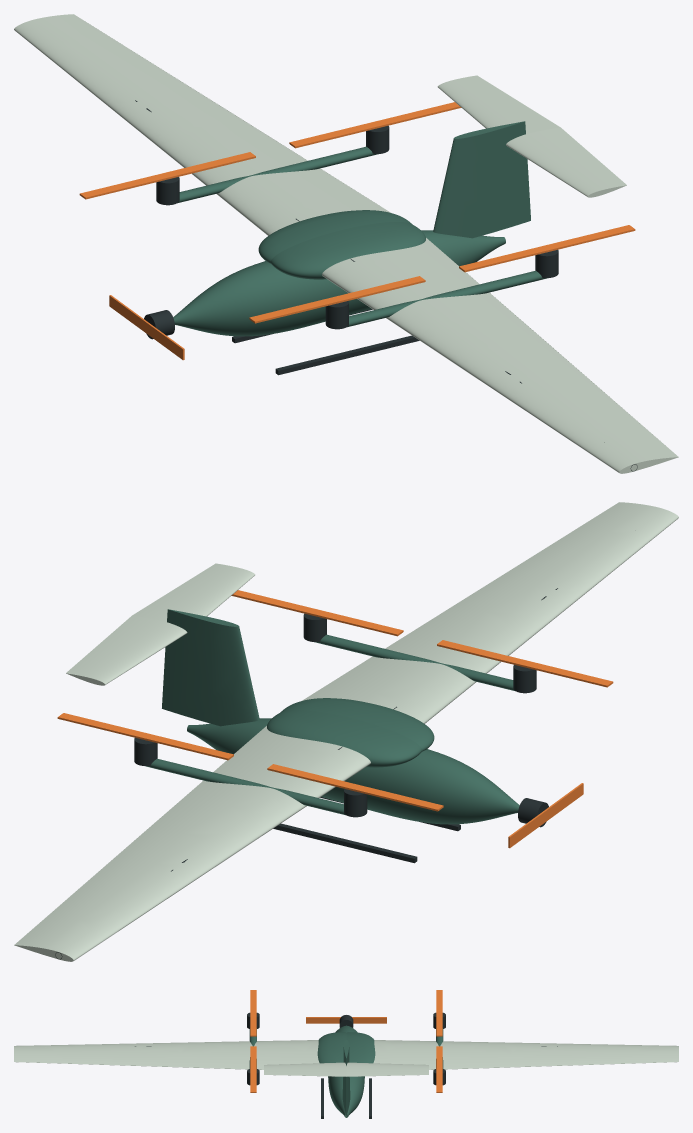
Rendered from control-09-model.glb.
The picture shows the model from 3 angles, top to bottom: view 1: azimuth 30°, elevation 25°; view 2: azimuth 150°, elevation 25°; view 3: azimuth 270°, elevation 25°; orthographic projection. The views are drawn at different scales.
Parts seen in each view (by area): view 1: wing-1, wing1, fuselage, fin, root_fairing-1, tail-1, tail1, root_fairing1, boom_fairing-1, boom_fairing1, prop_-1_200.0, prop_-1_700.0 (+4 smaller); view 2: wing1, wing-1, fuselage, fin, root_fairing1, tail1, tail-1, root_fairing-1, boom_fairing1, boom_fairing-1, prop_1_200.0, prop_1_700.0 (+4 smaller); view 3: wing-1, wing1, tail-1, tail1, fuselage, root_fairing-1, root_fairing1, cruise_prop, fin, prop_-1_200.0, prop_-1_700.0, prop_1_200.0 (+1 smaller).
Part boxes in pixels (left/top/right/bottom): wing-1: left=322, top=238, right=678, bottom=473; wing1: left=14, top=14, right=390, bottom=235; fuselage: left=173, top=230, right=505, bottom=336; fin: left=433, top=121, right=530, bottom=238; root_fairing-1: left=270, top=222, right=425, bottom=279; tail-1: left=506, top=127, right=626, bottom=197; tail1: left=437, top=75, right=560, bottom=133; root_fairing1: left=258, top=210, right=412, bottom=263; boom_fairing-1: left=347, top=270, right=548, bottom=327; boom_fairing1: left=177, top=146, right=378, bottom=203; prop_-1_200.0: left=249, top=276, right=425, bottom=323; prop_-1_700.0: left=459, top=225, right=635, bottom=272; wing1: left=14, top=726, right=370, bottom=961; wing-1: left=302, top=502, right=678, bottom=723; fuselage: left=187, top=718, right=519, bottom=824; fin: left=162, top=609, right=259, bottom=726; root_fairing1: left=267, top=710, right=422, bottom=767; tail1: left=66, top=615, right=187, bottom=685; tail-1: left=132, top=563, right=255, bottom=621; root_fairing-1: left=280, top=698, right=434, bottom=751; boom_fairing1: left=145, top=758, right=345, bottom=815; boom_fairing-1: left=314, top=634, right=515, bottom=691; prop_1_200.0: left=267, top=764, right=443, bottom=811; prop_1_700.0: left=57, top=713, right=233, bottom=760; wing-1: left=14, top=1040, right=319, bottom=1069; wing1: left=373, top=1040, right=678, bottom=1069; tail-1: left=264, top=1062, right=346, bottom=1076; tail1: left=346, top=1062, right=428, bottom=1076; fuselage: left=328, top=1025, right=364, bottom=1117; root_fairing-1: left=317, top=1032, right=346, bottom=1063; root_fairing1: left=346, top=1032, right=375, bottom=1063; cruise_prop: left=306, top=1017, right=386, bottom=1023; fin: left=342, top=1040, right=350, bottom=1115; prop_-1_200.0: left=250, top=990, right=256, bottom=1036; prop_-1_700.0: left=250, top=1046, right=256, bottom=1092; prop_1_200.0: left=436, top=990, right=442, bottom=1036.
Size of the model in its own units: 989 by 390 by 2500.
